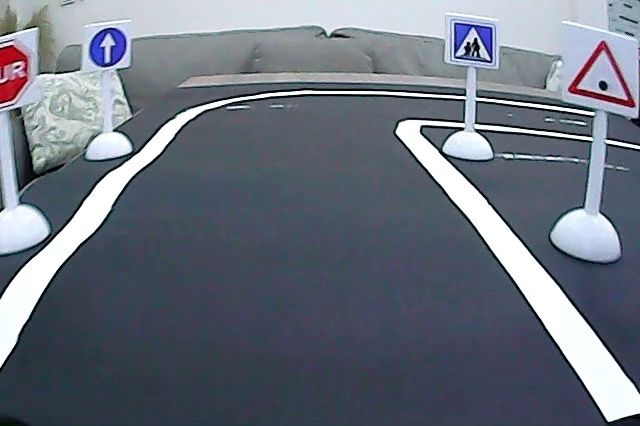green light: (561, 35, 638, 111)
school crossing: (449, 18, 496, 65)
